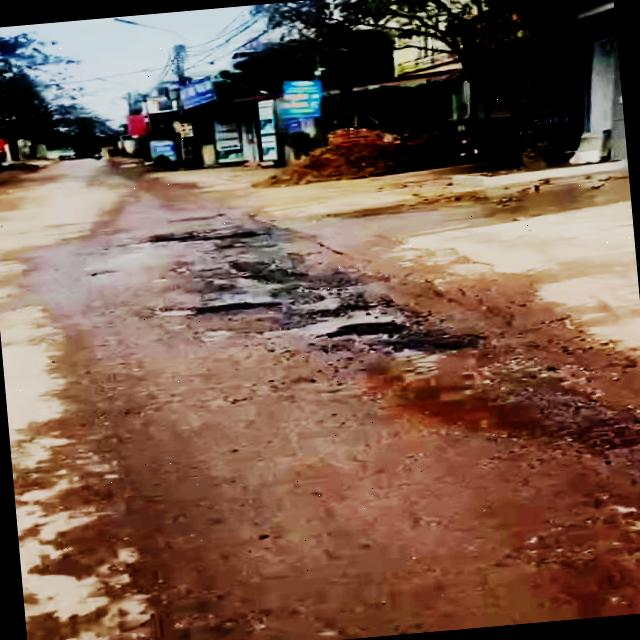pothole: (373, 346, 640, 473), (243, 272, 460, 374), (194, 256, 288, 311), (143, 298, 199, 320)
